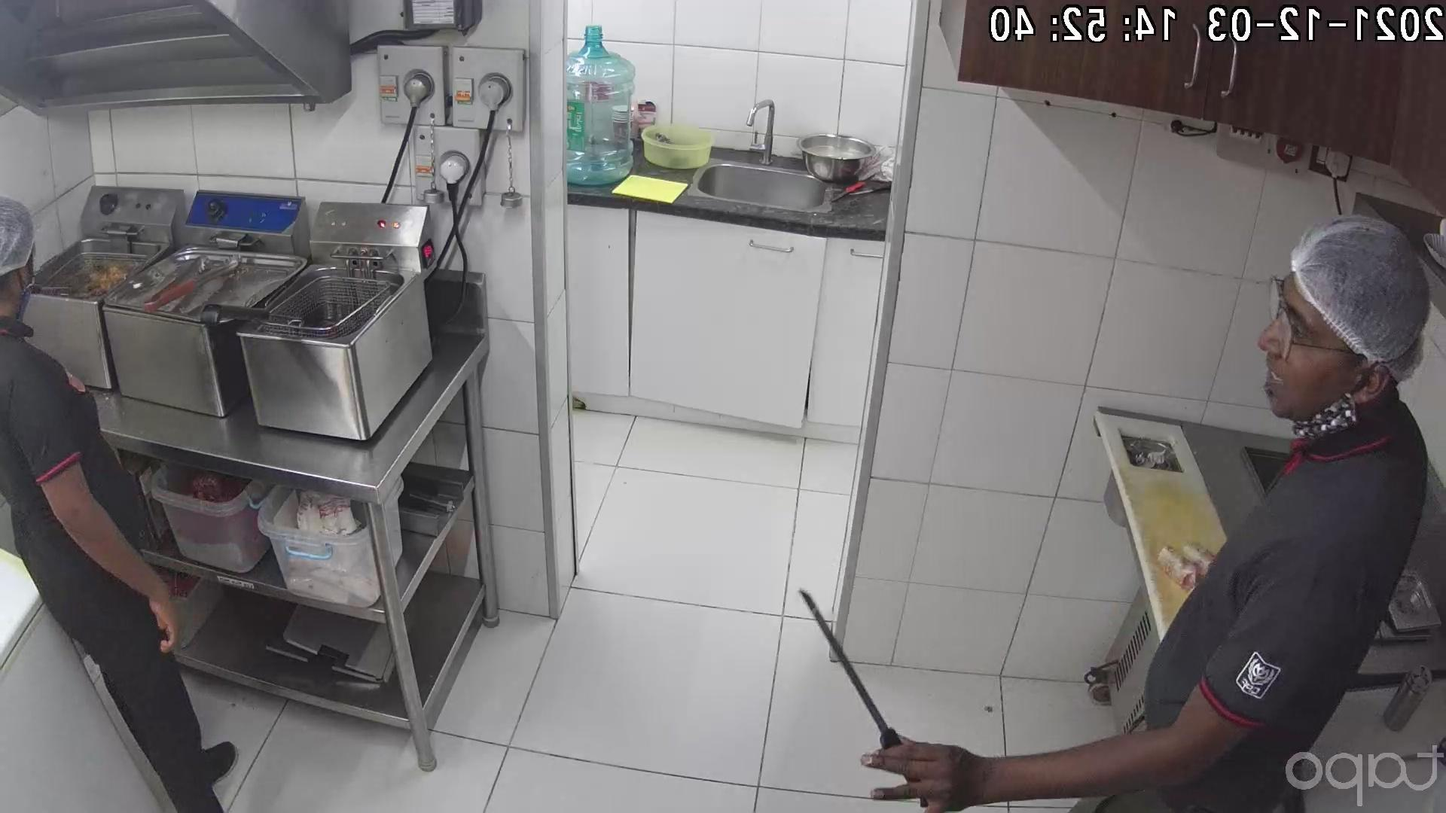gloves: (1271, 212, 1432, 406), (0, 187, 46, 299)
no_apron: (857, 721, 1007, 813), (141, 578, 212, 676)
no_hairnet: (1255, 289, 1342, 418)
